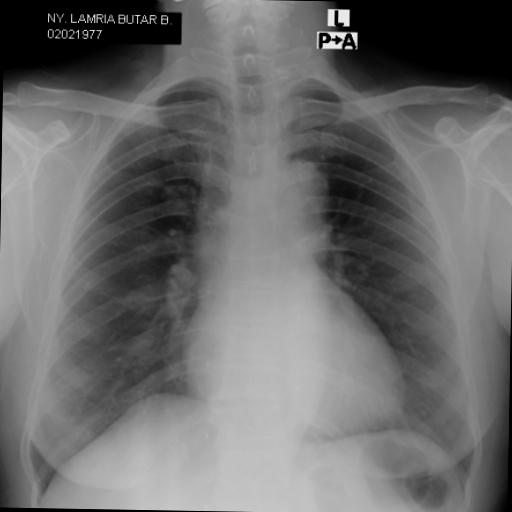kardiomegali: (24, 56, 490, 510)
